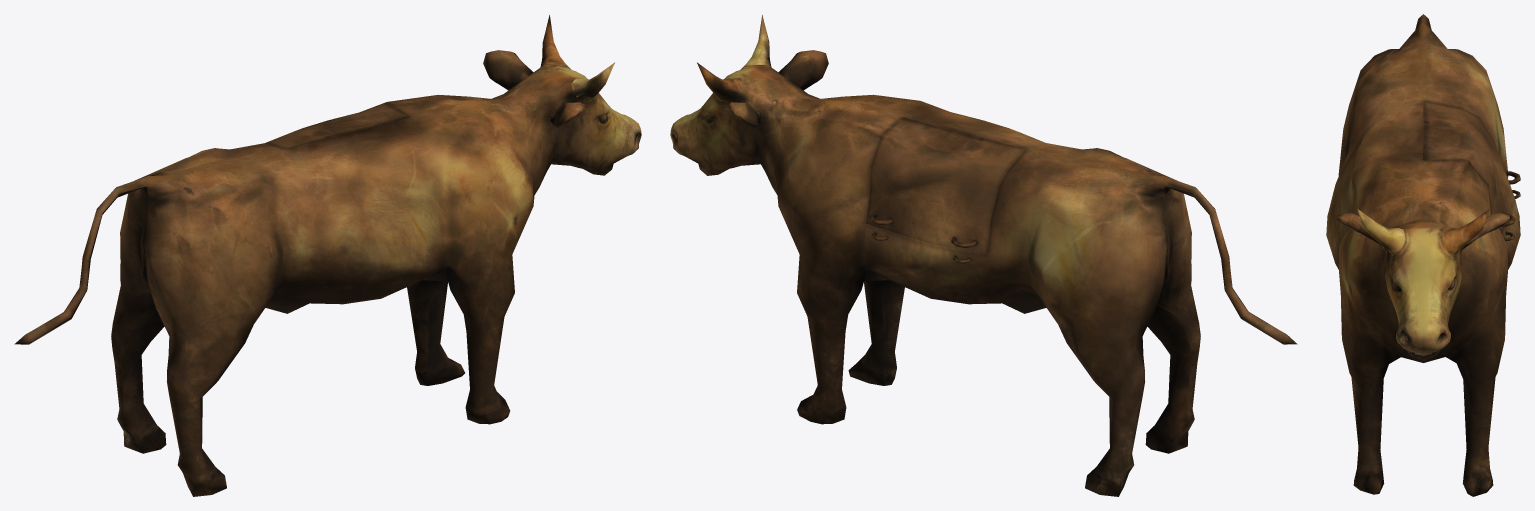
The model's file is brazen_bull.dae.
The picture shows the model from 3 angles, left to right: view 1: azimuth 30°, elevation 25°; view 2: azimuth 150°, elevation 25°; view 3: azimuth 270°, elevation 25°; orthographic projection.
Parts seen in each view (by area): view 1: polySurface17, polySurface16; view 2: polySurface17, polySurface16; view 3: polySurface17, polySurface16.
Boxes of the visible parts, x1,y1,x2,y2 form: polySurface17: (14,15,641,496); polySurface16: (266,102,408,148); polySurface17: (670,15,1297,496); polySurface16: (866,117,1026,254); polySurface17: (1326,14,1520,496); polySurface16: (1423,101,1520,233).
Size of the model in its own units: 3.78 by 1.91 by 1.01.
